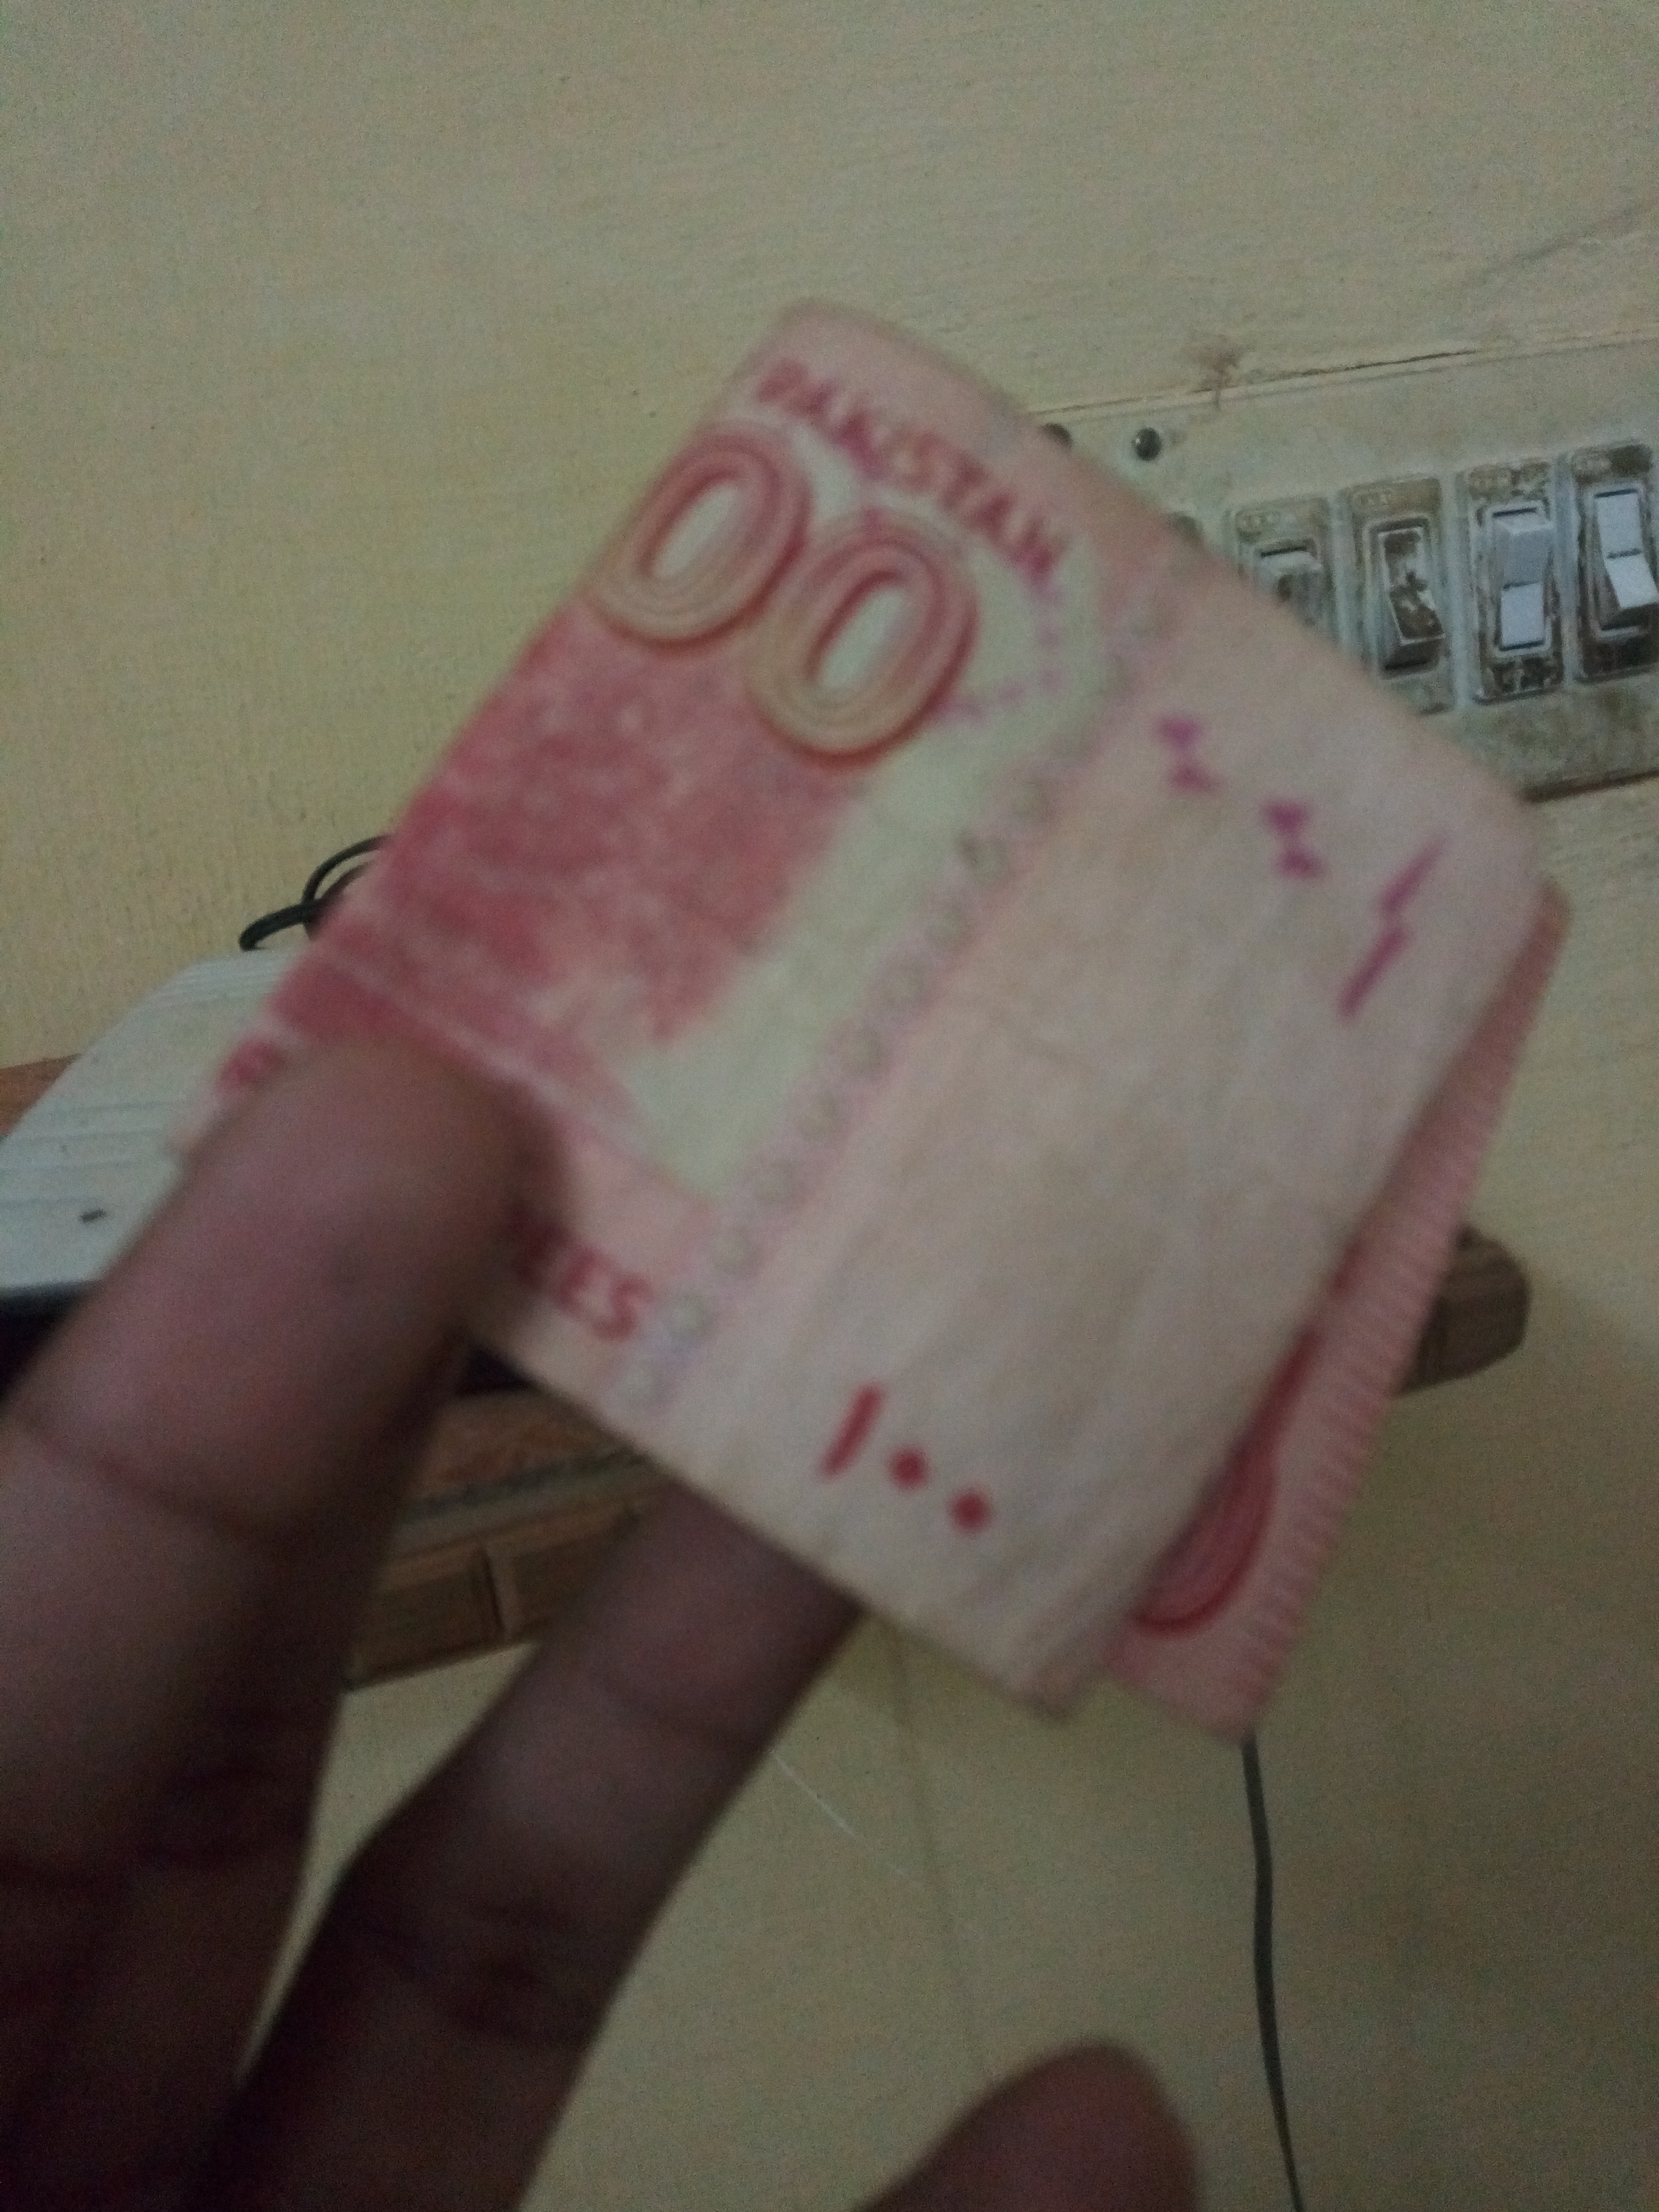100 rupee: (176, 260, 1577, 1695)
